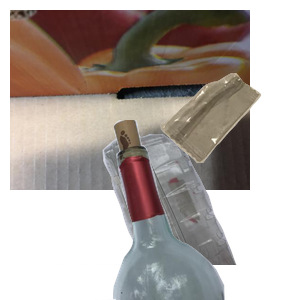cardboard: (10, 10, 250, 190)
glass: (89, 120, 300, 300)
plastic: (55, 120, 284, 300)
trash: (158, 71, 300, 227)
